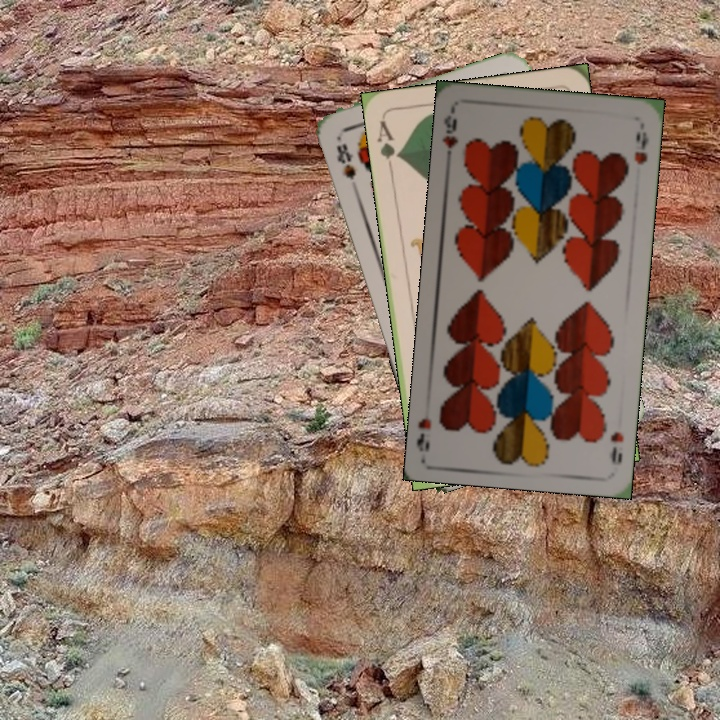GA: (373, 116, 404, 174)
H9: (439, 111, 461, 166), (606, 428, 627, 467)
S8: (332, 139, 359, 182)
